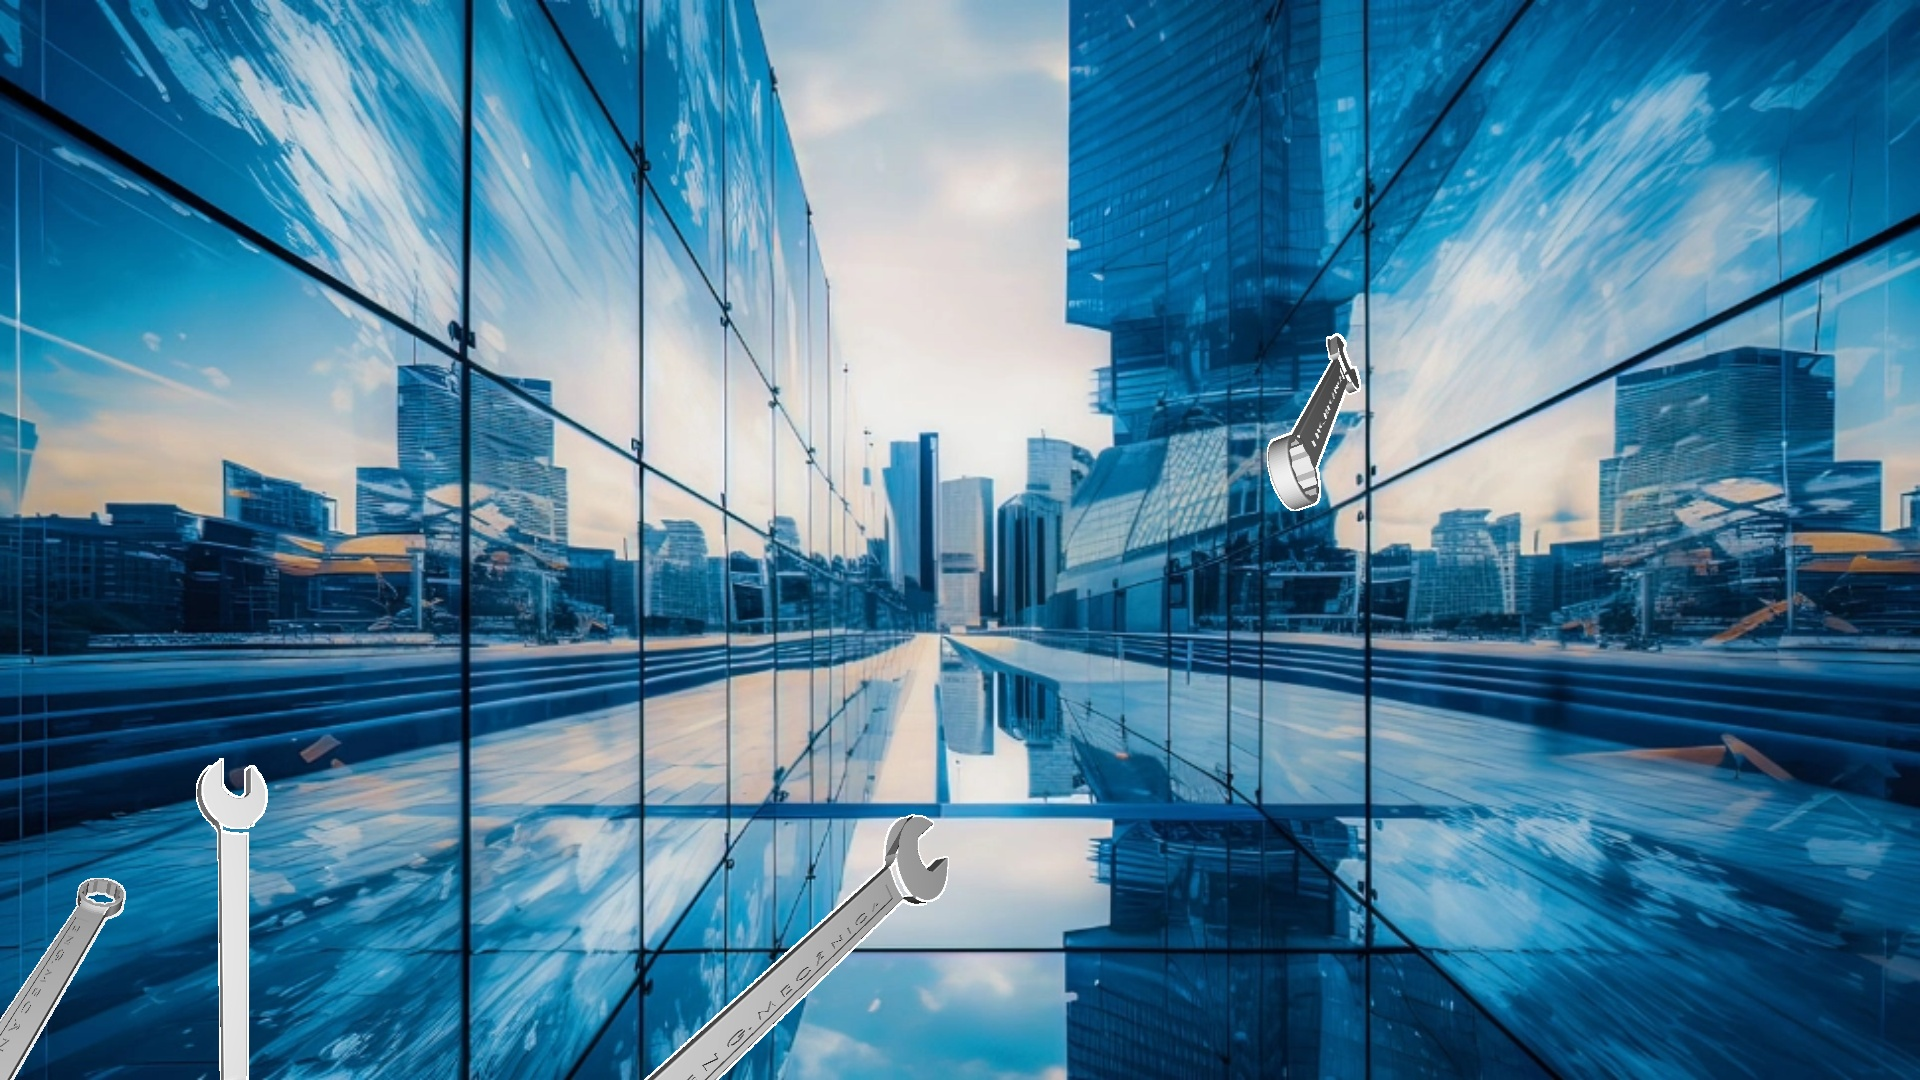Mixed Key: (644, 814, 948, 1079), (0, 878, 125, 1079), (196, 758, 266, 1079), (1267, 334, 1360, 510)
